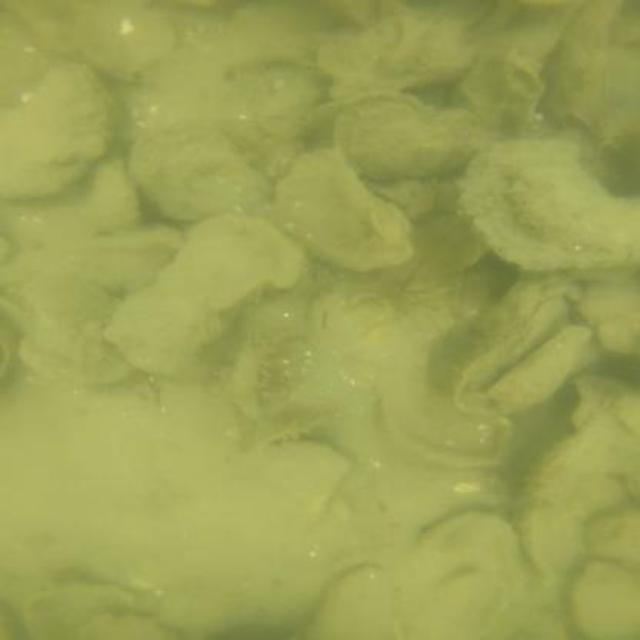Oyster-Closed: (106, 210, 297, 369), (458, 138, 637, 271), (513, 388, 633, 569), (448, 275, 584, 418), (282, 150, 416, 265), (0, 62, 112, 197), (128, 124, 270, 219), (315, 15, 472, 96), (229, 434, 351, 534), (340, 94, 491, 174), (19, 278, 124, 382), (385, 385, 514, 467), (487, 327, 595, 411), (309, 567, 404, 640), (569, 560, 639, 640), (582, 278, 637, 353), (587, 512, 636, 567), (496, 62, 540, 103)
